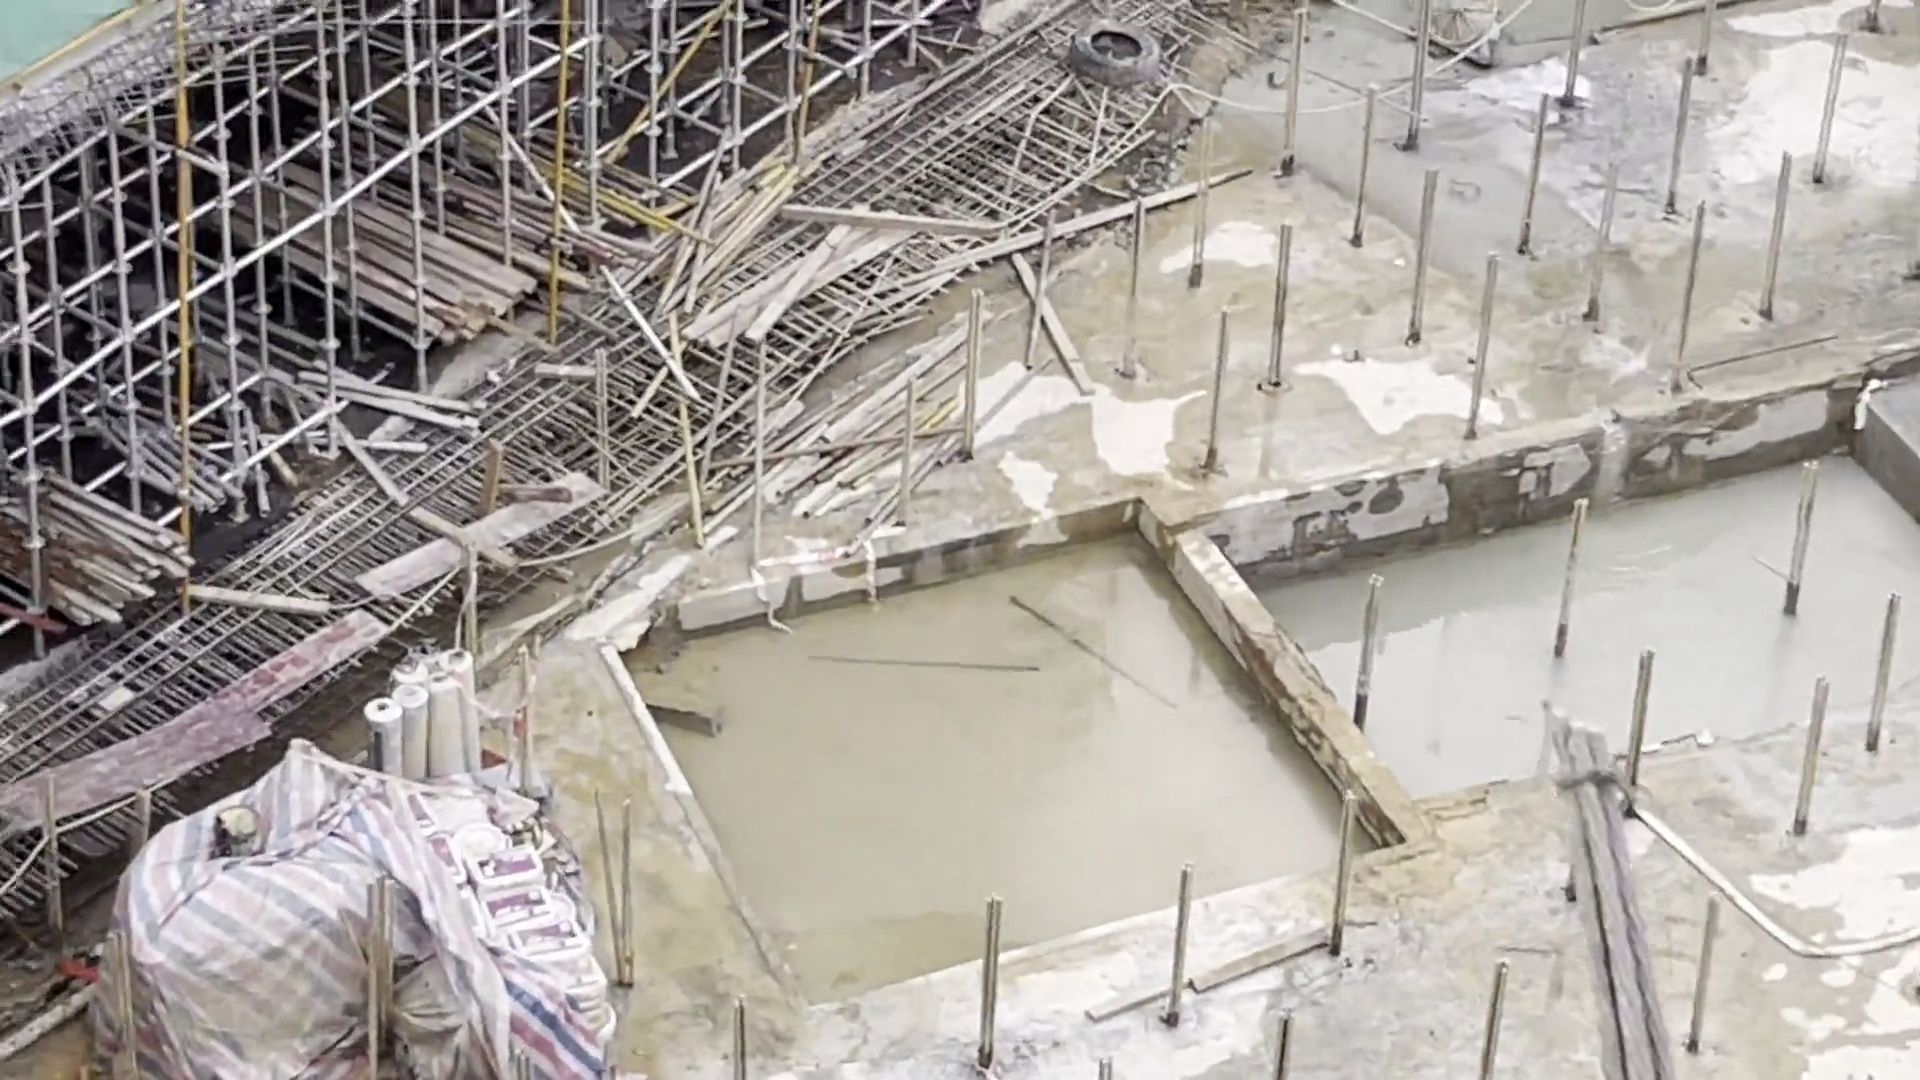wood: (207, 164, 543, 353), (1, 468, 196, 633)
